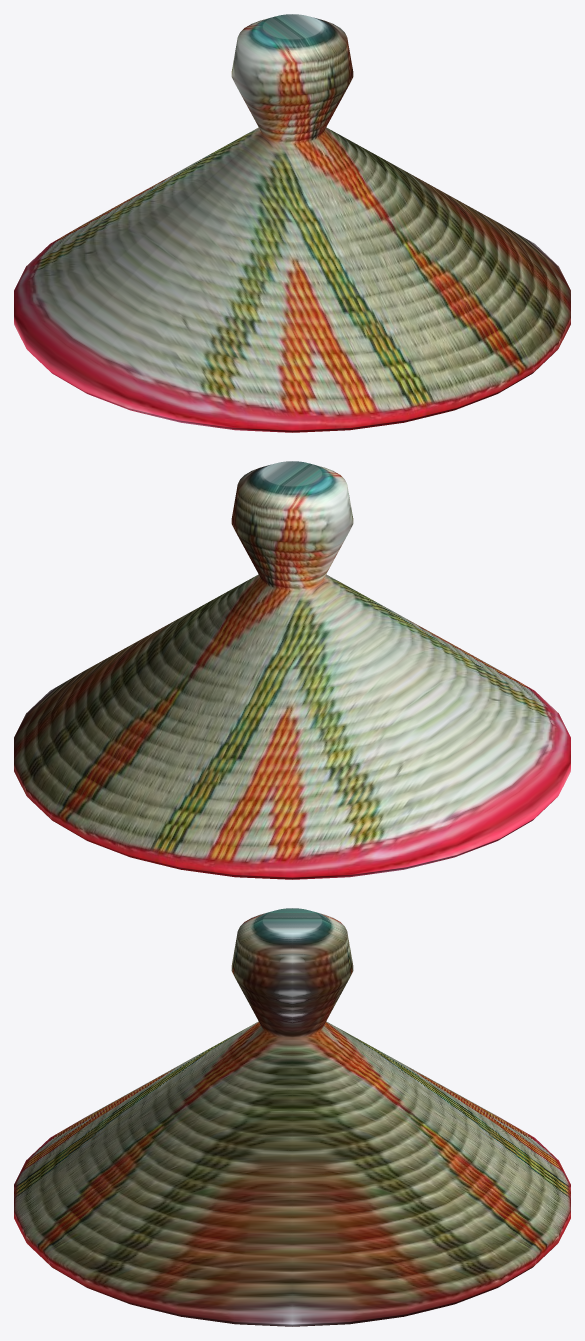
File: top.fbx
The picture shows the model from 3 angles, top to bottom: view 1: azimuth 30°, elevation 25°; view 2: azimuth 150°, elevation 25°; view 3: azimuth 270°, elevation 25°; orthographic projection.
Parts seen in each view (by area): view 1: Group2; view 2: Group2; view 3: Group2.
Boxes of the visible parts, box(x1,y1,x2,y2) form: Group2: box(14, 14, 570, 432); Group2: box(14, 461, 570, 879); Group2: box(14, 908, 570, 1326).
Bounding box in the file's own units: 0.5722 × 0.3273 × 0.5691.
